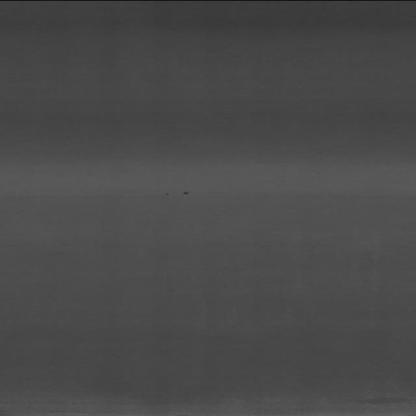silk_spot: (158, 184, 195, 199)
water_spot: (342, 390, 413, 409)
